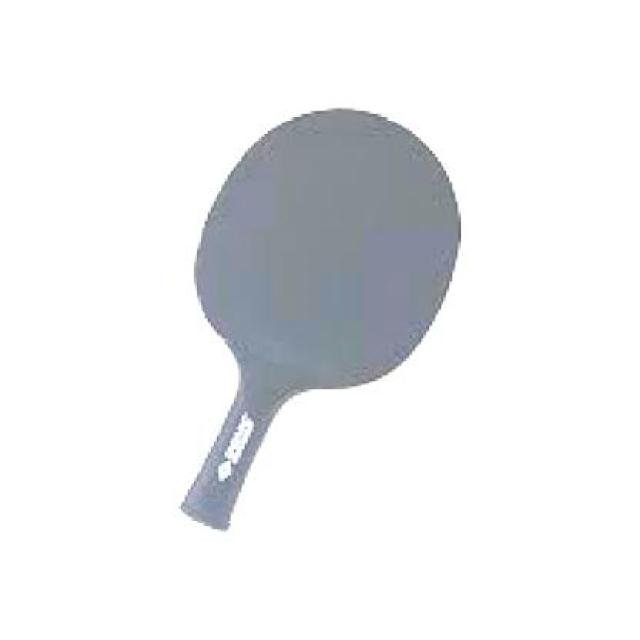table_tennis_racket: (195, 102, 463, 398)
